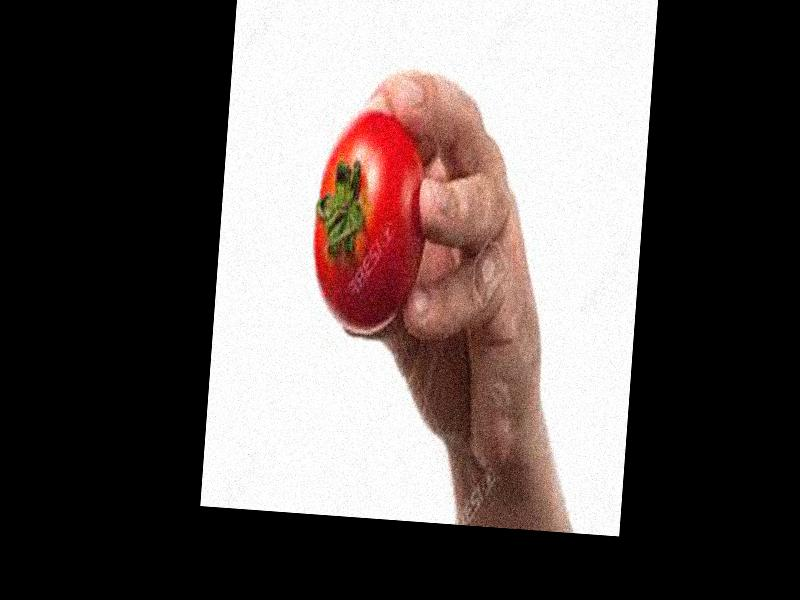Tomato: (306, 107, 431, 334)
